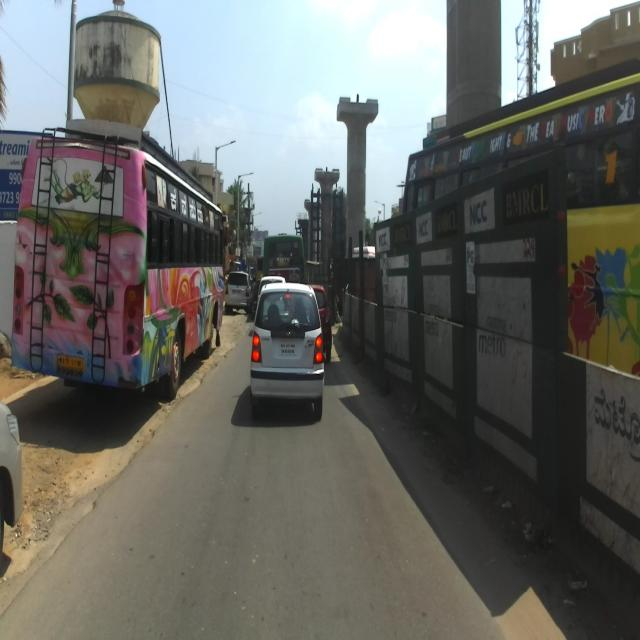bus: (400, 55, 640, 375), (8, 124, 229, 403)
car: (248, 282, 324, 420), (223, 271, 250, 312)
